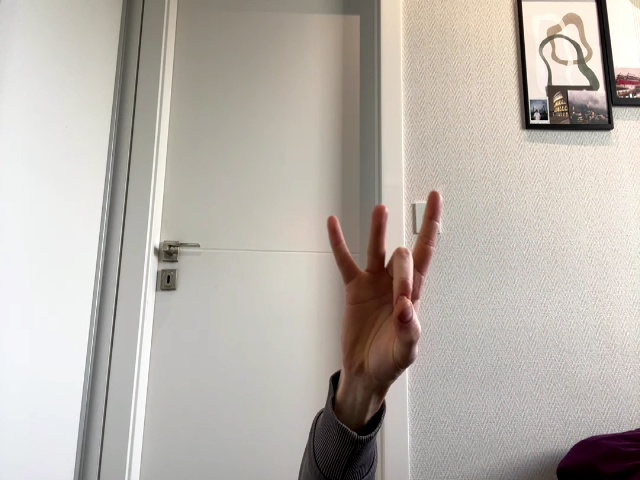G: (326, 191, 443, 374)
